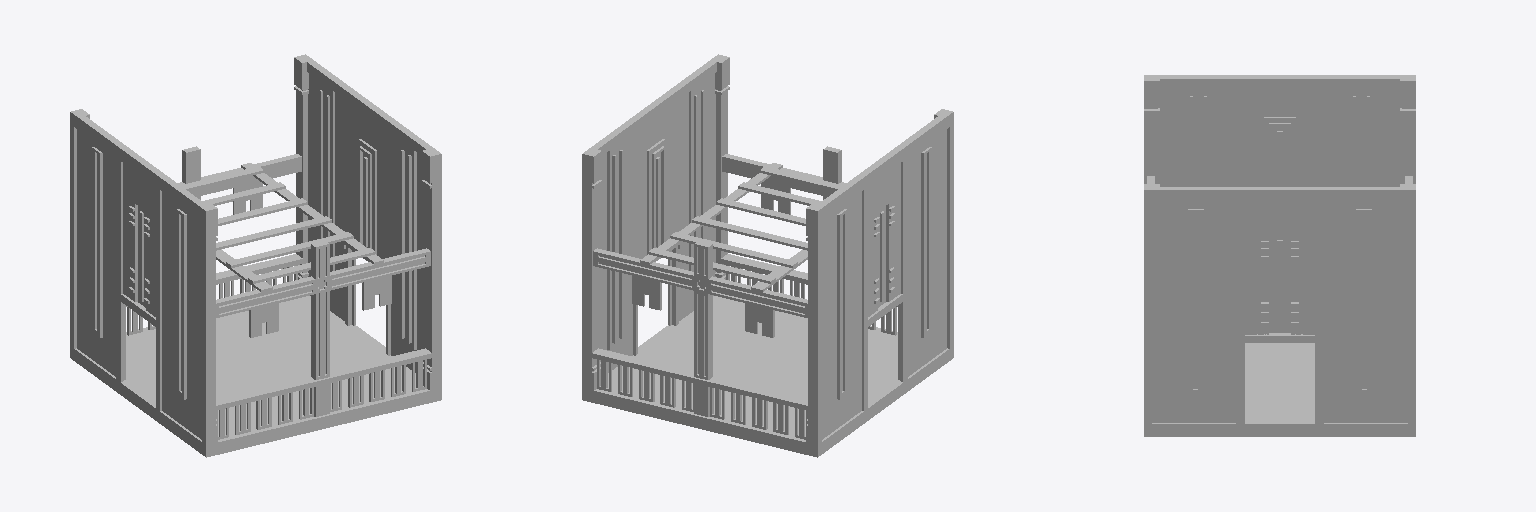
File: bridge_1.obj
3 renders of one model, left to right at view 1: azimuth 30°, elevation 25°; view 2: azimuth 150°, elevation 25°; view 3: azimuth 270°, elevation 25°, orthographic.
Parts seen in each view (by area): view 1: bridge_1; view 2: bridge_1; view 3: bridge_1.
Part boxes in pixels (left/top/right/bottom): bridge_1: left=70, top=54, right=441, bottom=457; bridge_1: left=582, top=54, right=953, bottom=457; bridge_1: left=1144, top=75, right=1415, bottom=436.
Bounding box in the file's own units: 100 × 100 × 100.